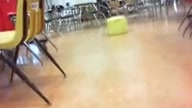cube: (106, 15, 128, 36)
